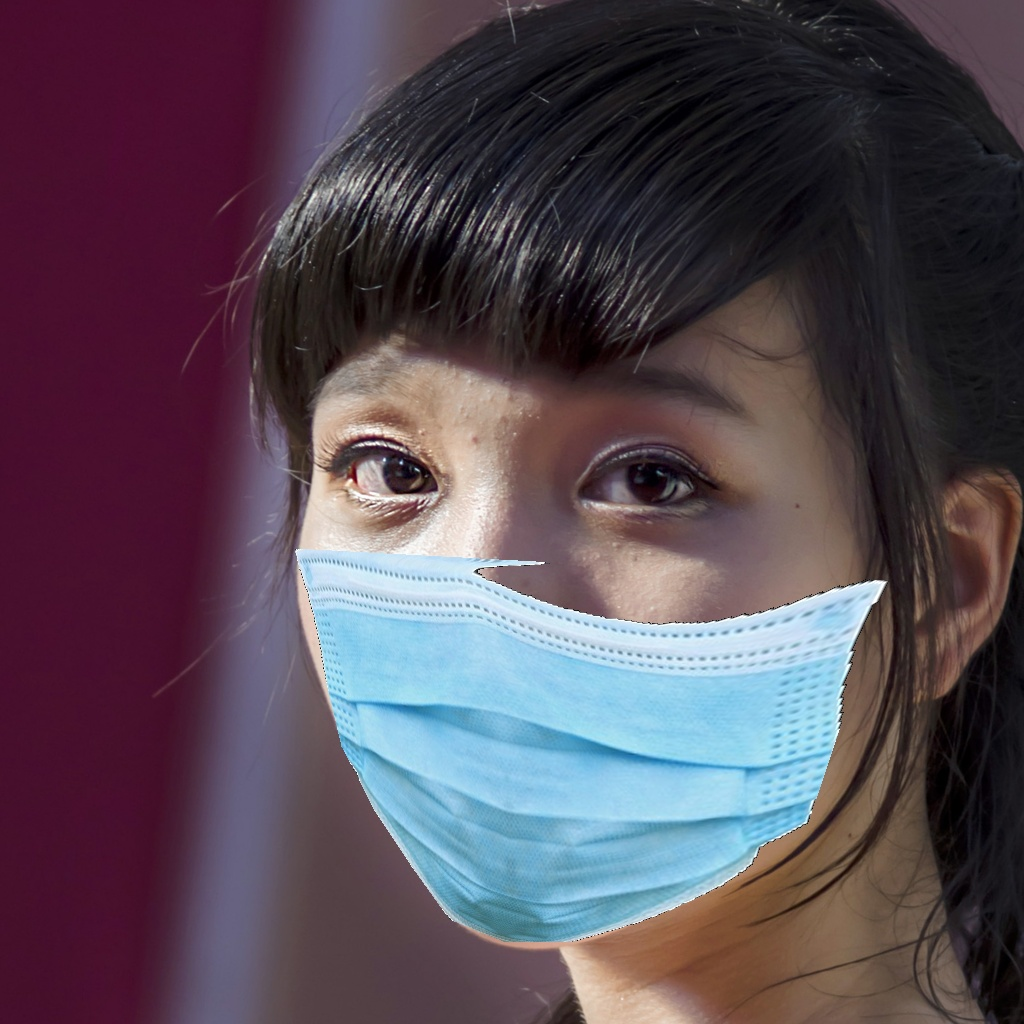with_mask: (274, 357, 892, 961)
